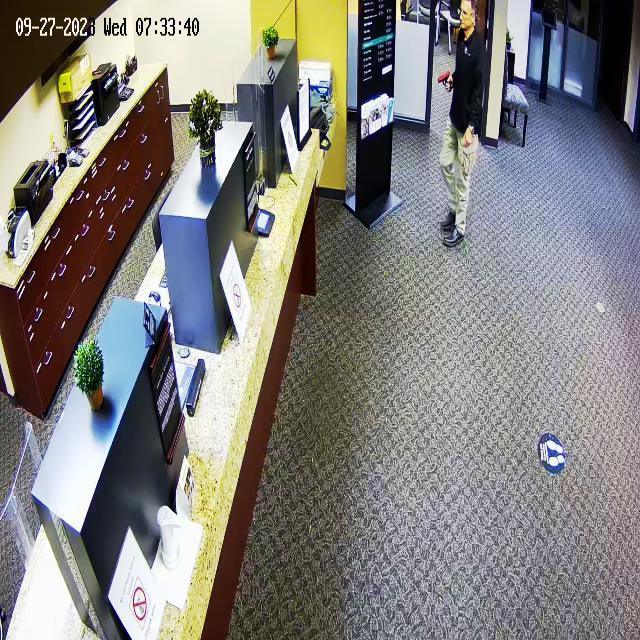Gun: (430, 62, 458, 96)
